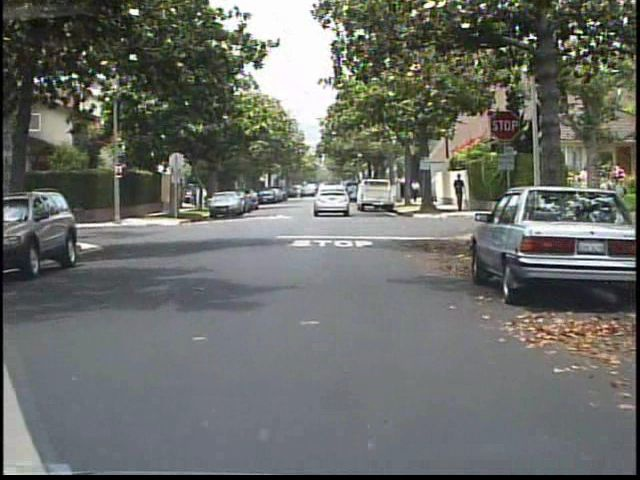person: (450, 171, 471, 216), (411, 177, 422, 204)
